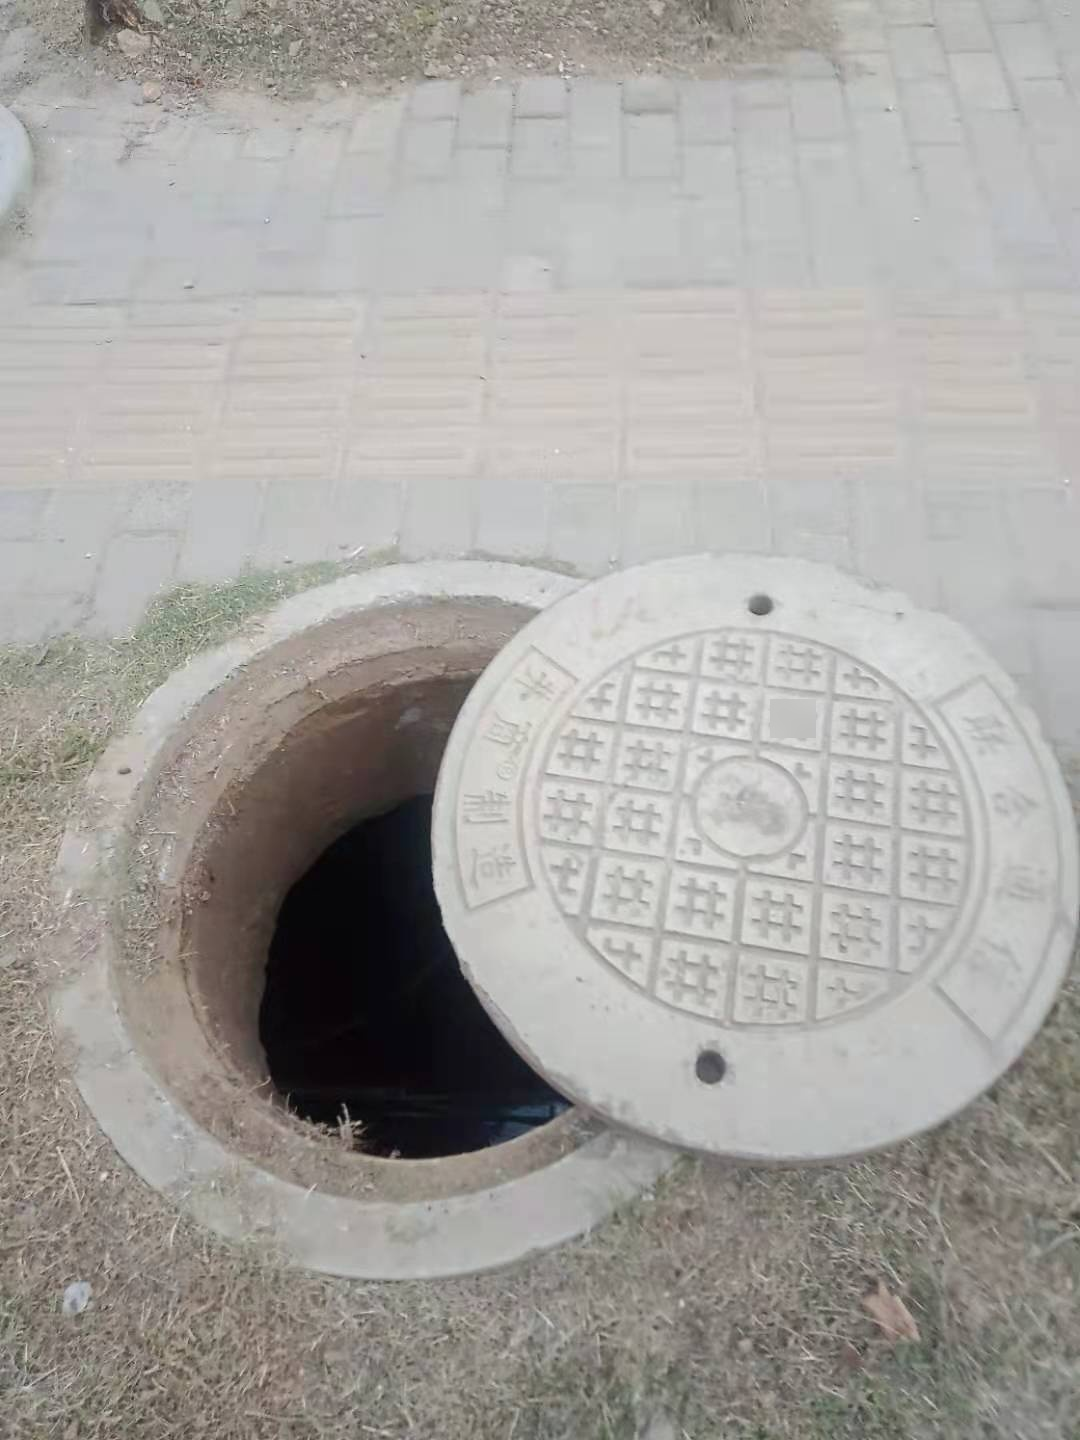uncovered: (48, 554, 1075, 1279)
